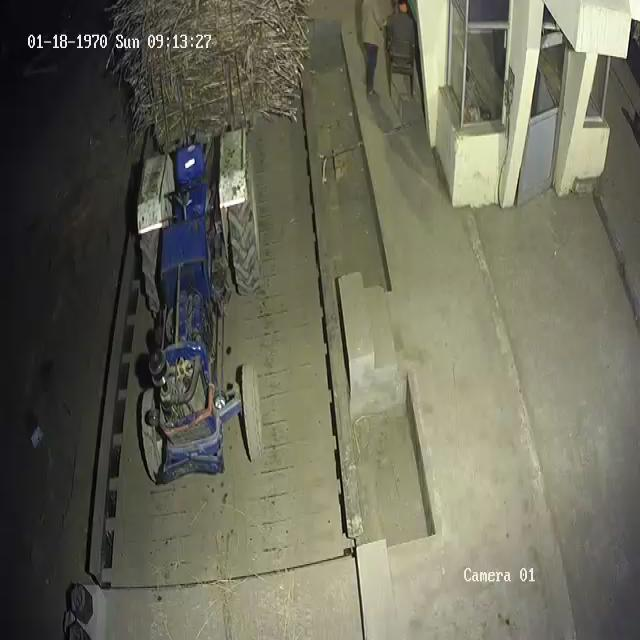Tratores - v5 YOLO V8L 2024-11-13: (142, 142, 261, 486)
